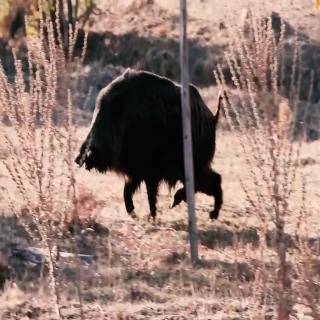Pig: (62, 54, 243, 224)
